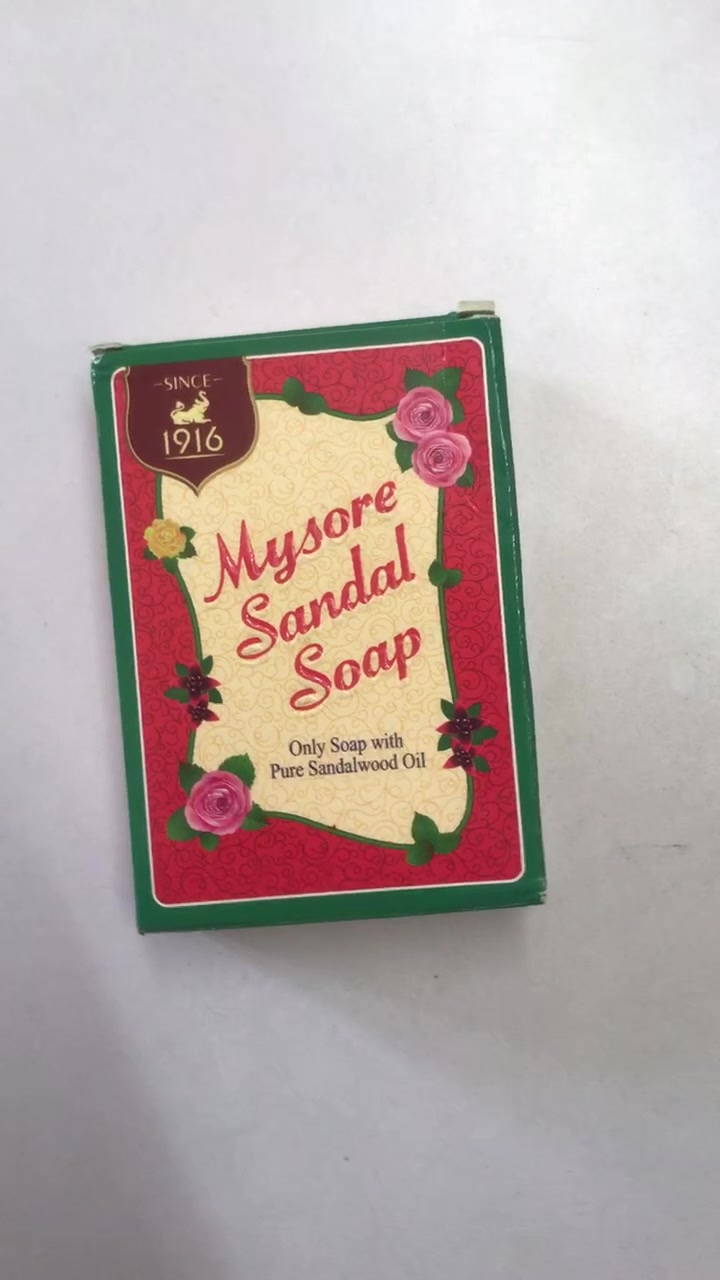mysore sandal soap: (89, 310, 544, 928)
